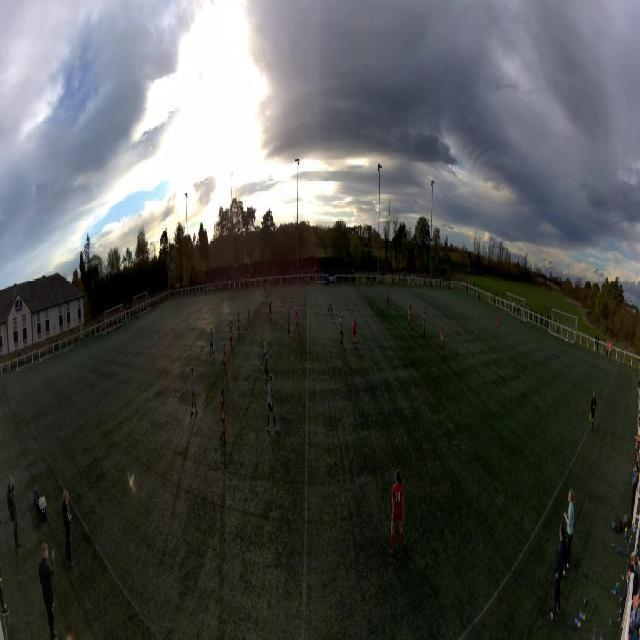ball: (476, 330, 478, 335)
player: (267, 374, 279, 432), (191, 364, 198, 415), (220, 386, 226, 443), (263, 339, 269, 379), (222, 344, 228, 382), (209, 326, 215, 362), (294, 308, 300, 339), (352, 314, 357, 348), (339, 313, 344, 347), (439, 324, 444, 356), (286, 308, 291, 338), (327, 292, 333, 316), (422, 310, 427, 338), (229, 322, 233, 353), (408, 302, 412, 329), (496, 313, 500, 334), (237, 306, 240, 332), (269, 299, 272, 324), (386, 288, 390, 305), (247, 300, 250, 322), (265, 286, 268, 302), (126, 314, 128, 331)
